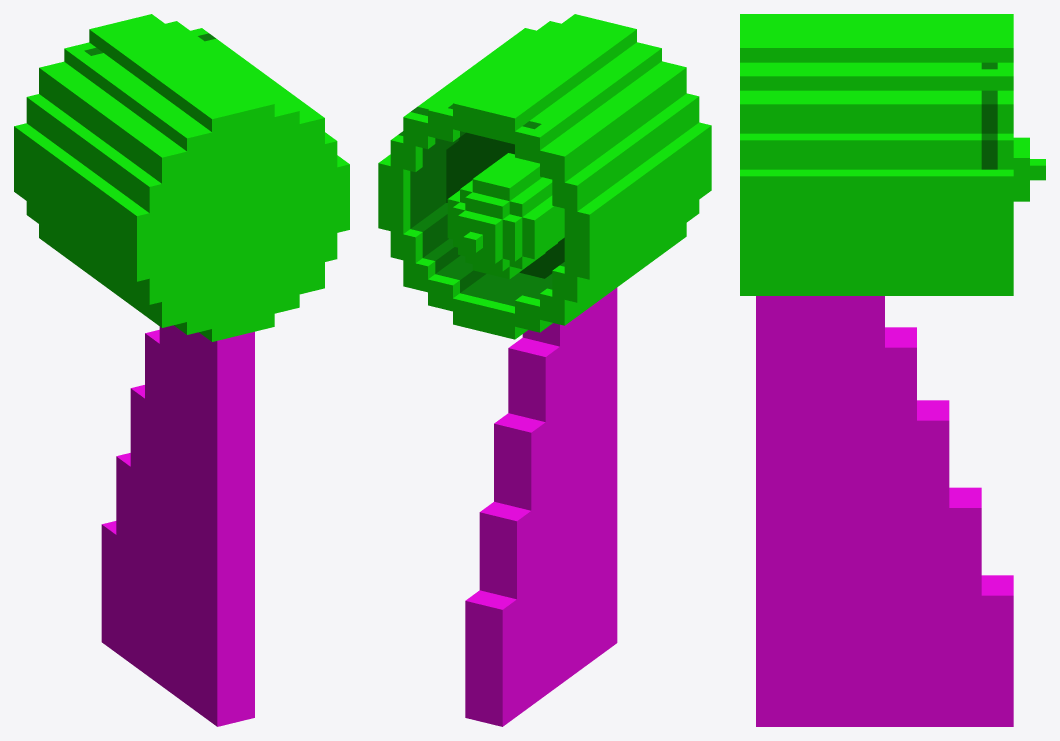
Rendered from armALEIN.FBX.
The picture shows the model from 3 angles, left to right: view 1: azimuth 30°, elevation 25°; view 2: azimuth 150°, elevation 25°; view 3: azimuth 270°, elevation 25°; orthographic projection. The views are drawn at different scales.
Visible parts, largest first — view 1: default; view 2: default; view 3: default.
Boxes of the visible parts, box(x1,y1,x2,y2) form: default: box(14, 14, 349, 726); default: box(378, 14, 711, 726); default: box(740, 14, 1045, 726).
Size of the model in its own units: 17 by 19 by 47.
Materials: 1 (1 with a texture image).
